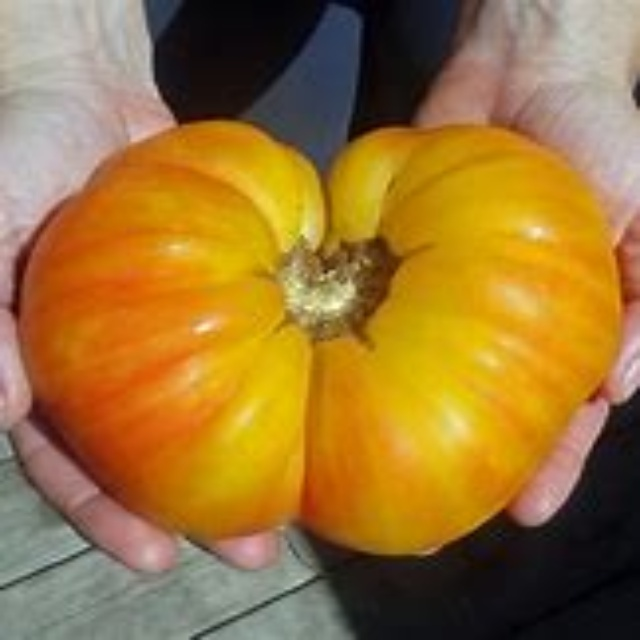tomato: (16, 115, 625, 563)
